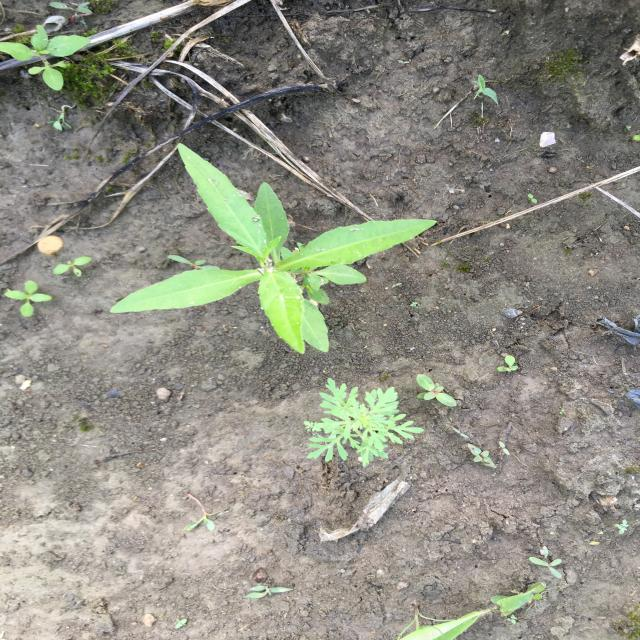Eclipta: (106, 141, 440, 356), (0, 23, 95, 91)
Ragweed: (301, 376, 427, 471)
